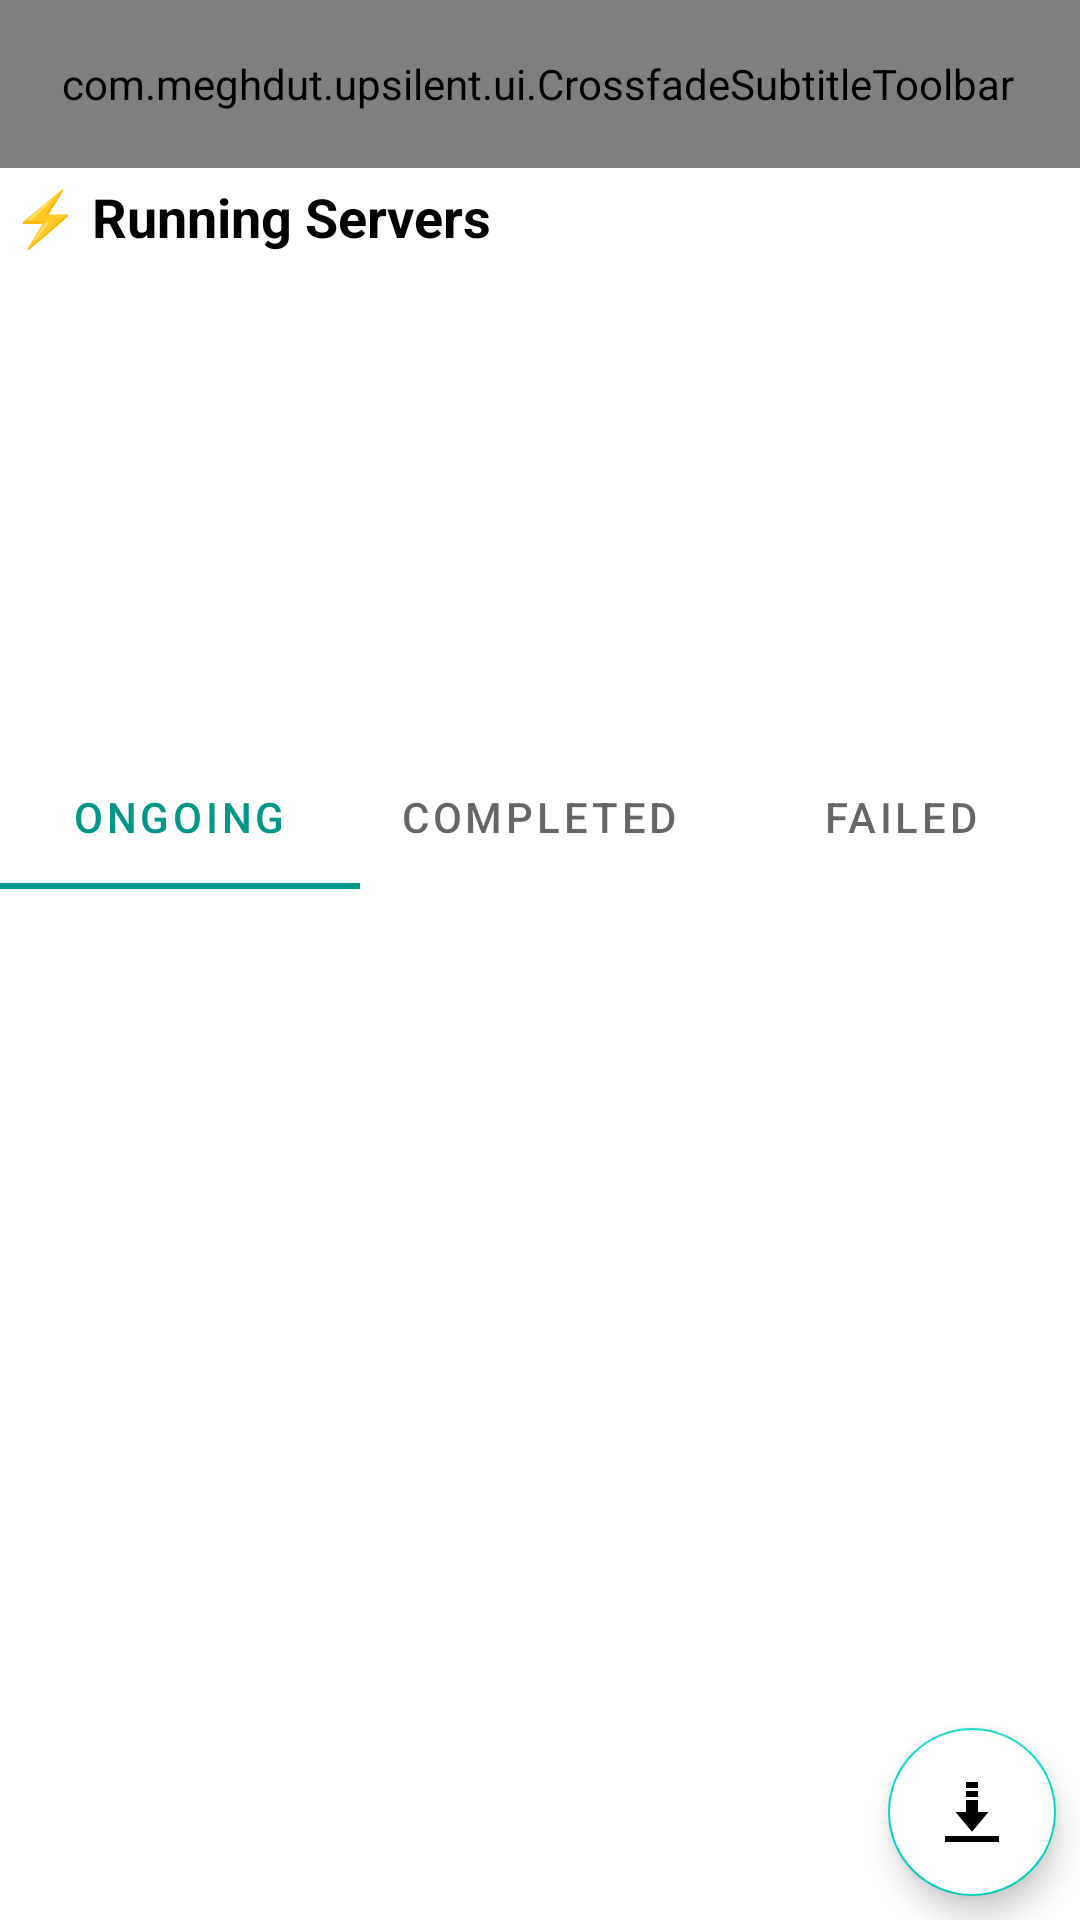

Screen size 1080×1920. Icon name, then its center in pixels as (x,y):
download: (972,1812)
